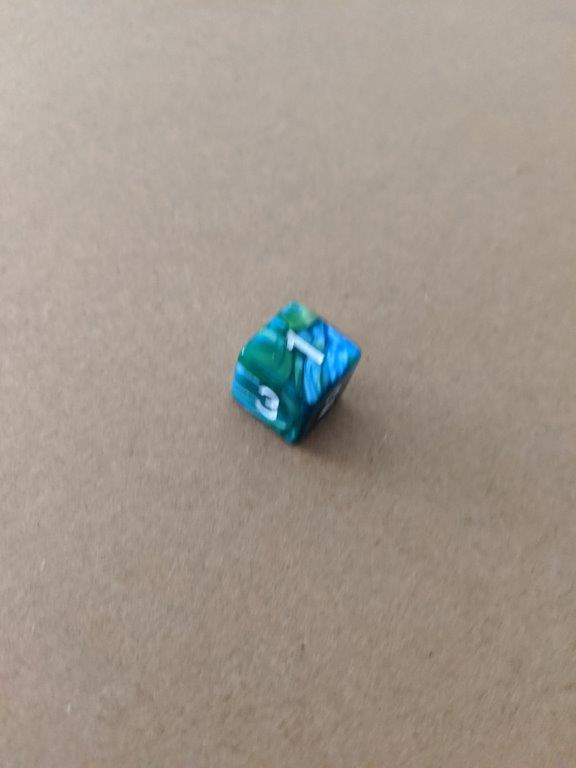d6-1: (227, 296, 362, 448)
